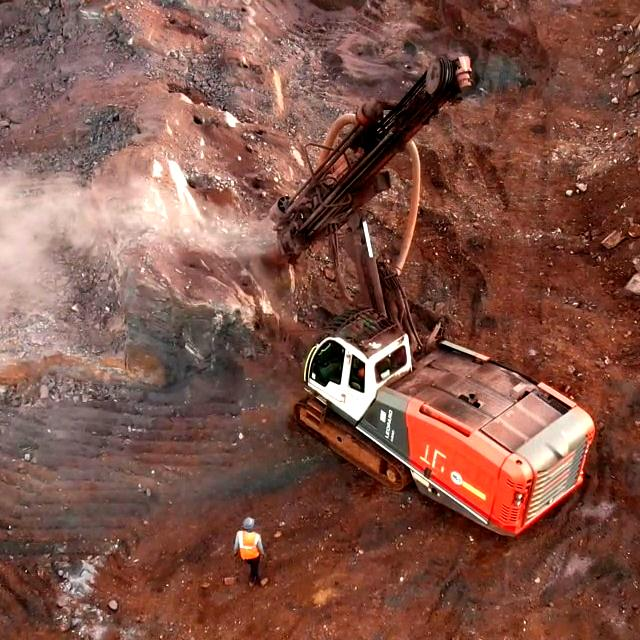Blast rig: (300, 330, 493, 447)
person: (231, 516, 266, 589)
